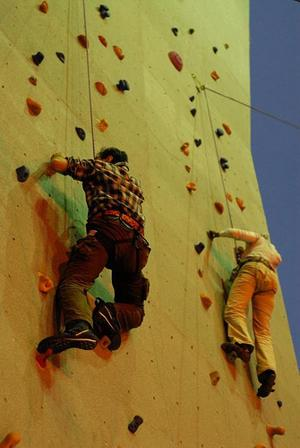person: (38, 144, 150, 360)
